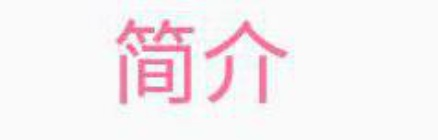TextView: (1, 1, 437, 139)
